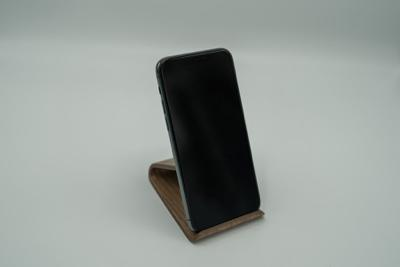cell-phone: (153, 44, 263, 236)
